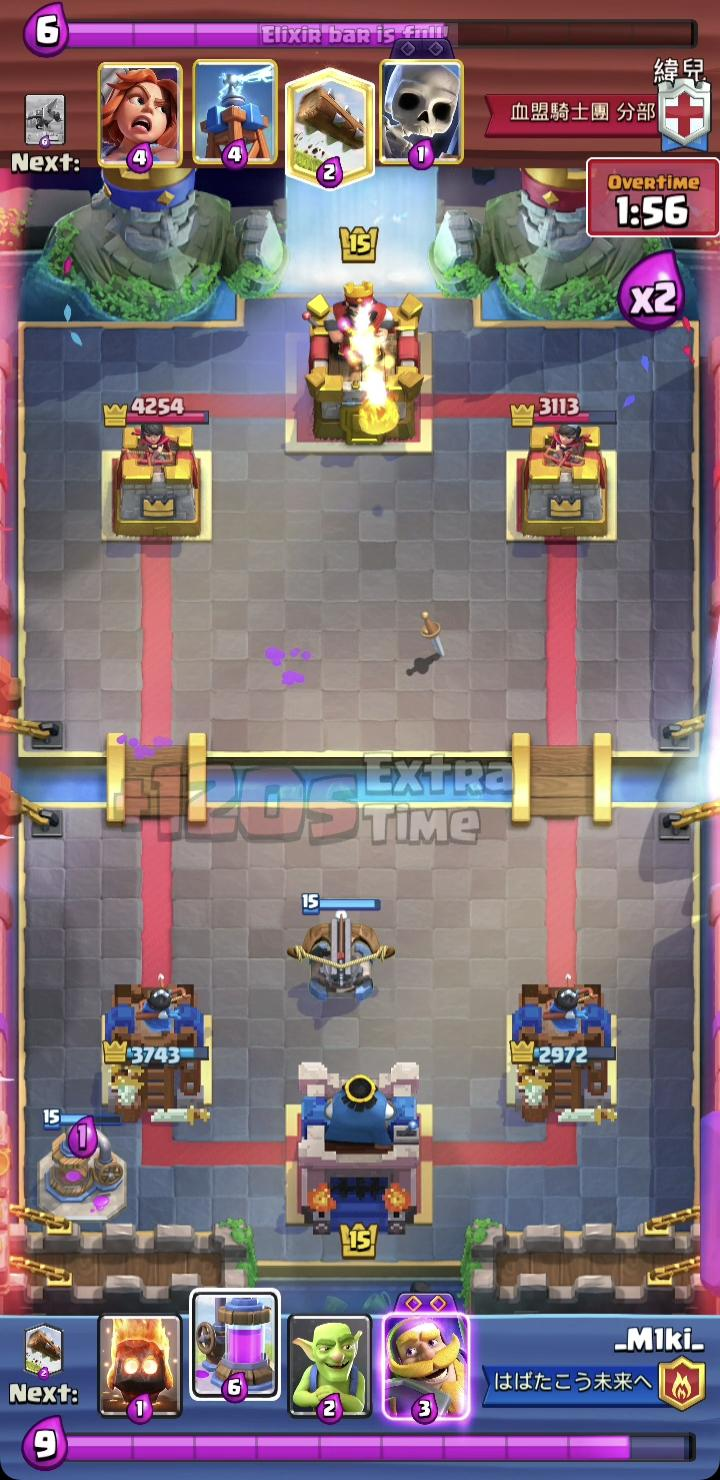ally_elixirpump: (35, 1108, 129, 1223)
ally_xbow: (288, 891, 397, 1000)
enemy_fireball: (350, 367, 404, 437)
